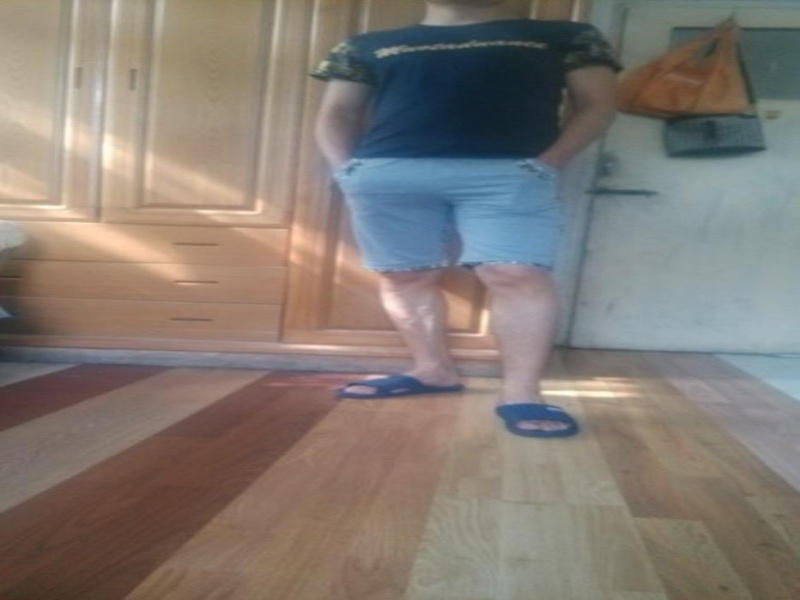short_sleeved_shirt: (308, 17, 626, 159)
shorts: (326, 139, 566, 273)
